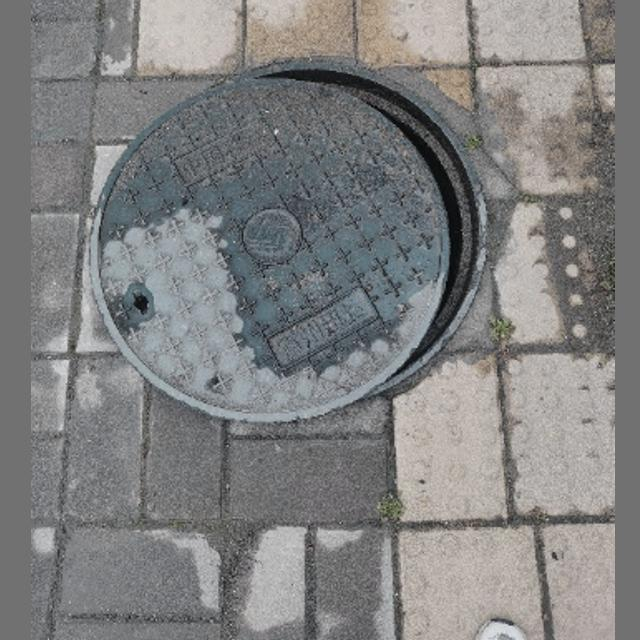uncovered: (82, 55, 493, 406)
